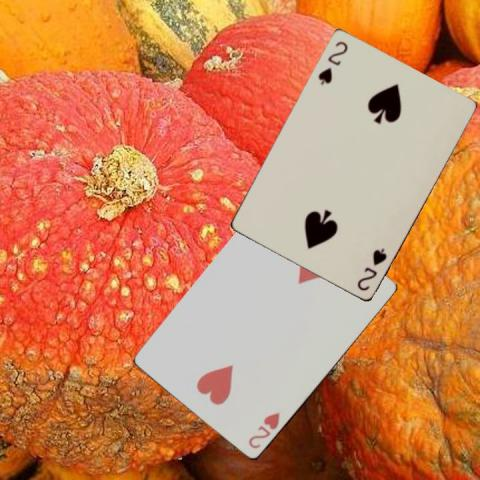2h: (246, 409, 282, 451)
2s: (354, 245, 389, 293), (315, 38, 349, 87)
